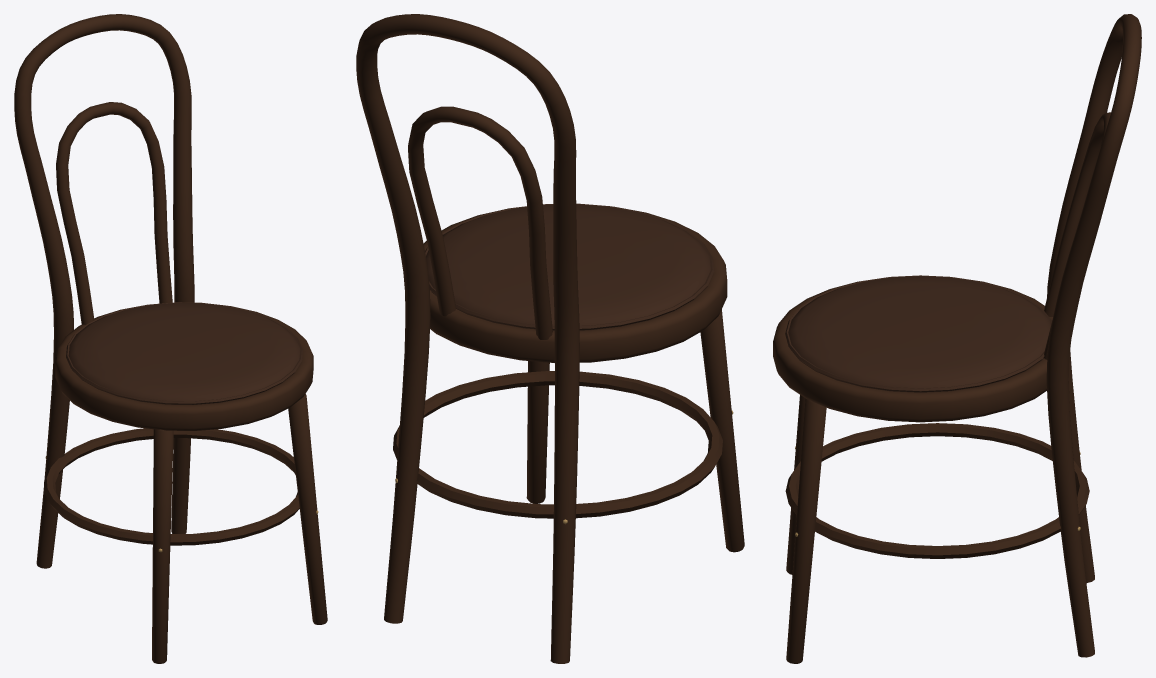
Rendered from chair.glb.
3 renders of one model, left to right at view 1: azimuth 30°, elevation 25°; view 2: azimuth 150°, elevation 25°; view 3: azimuth 270°, elevation 25°, orthographic. The views are drawn at different scales.
Parts seen in each view (by area): view 1: chair_body; view 2: chair_body; view 3: chair_body.
Boxes of the visible parts, x1,y1,x2,y2 form: chair_body: (14, 14, 327, 663); chair_body: (356, 14, 744, 663); chair_body: (773, 14, 1141, 663).
Size of the model in its own units: 0.4393 by 0.9367 by 0.5326.
